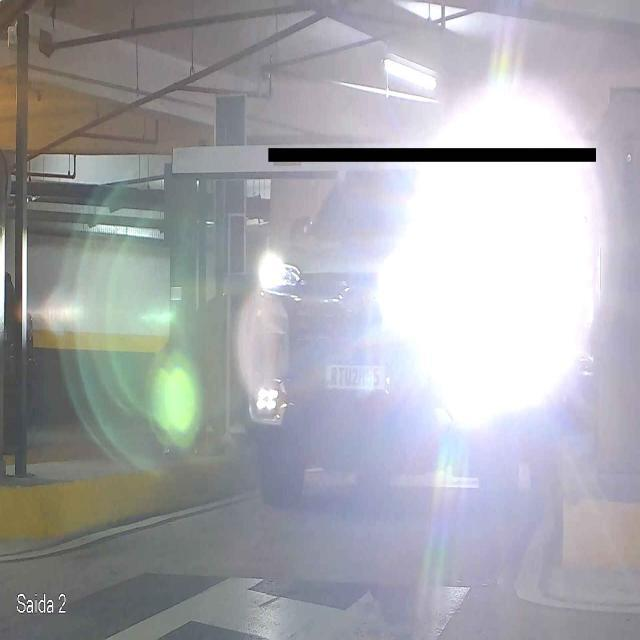mercosul_plate: (323, 358, 391, 392)
